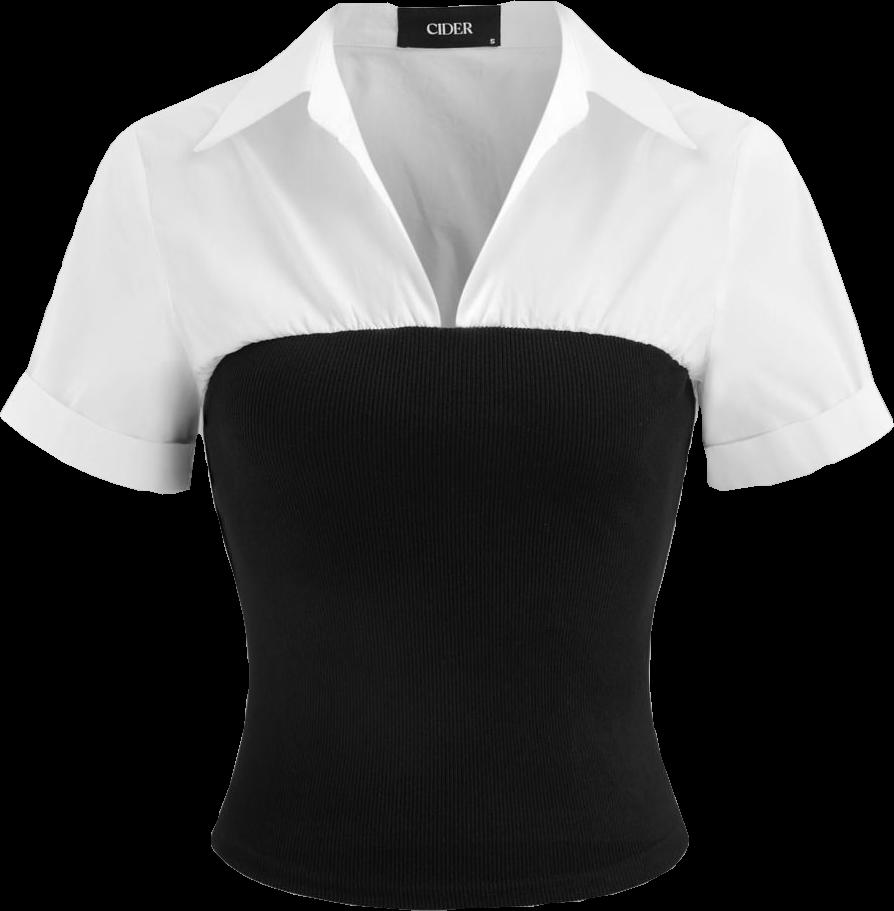Bodice: (126, 0, 768, 909)
Neckline: (324, 3, 570, 334), (192, 321, 700, 411)
Sleeve: (0, 124, 197, 493), (698, 125, 893, 490)
Sleeveline: (692, 122, 773, 393), (125, 126, 202, 408)
Waistline: (207, 833, 694, 910)
